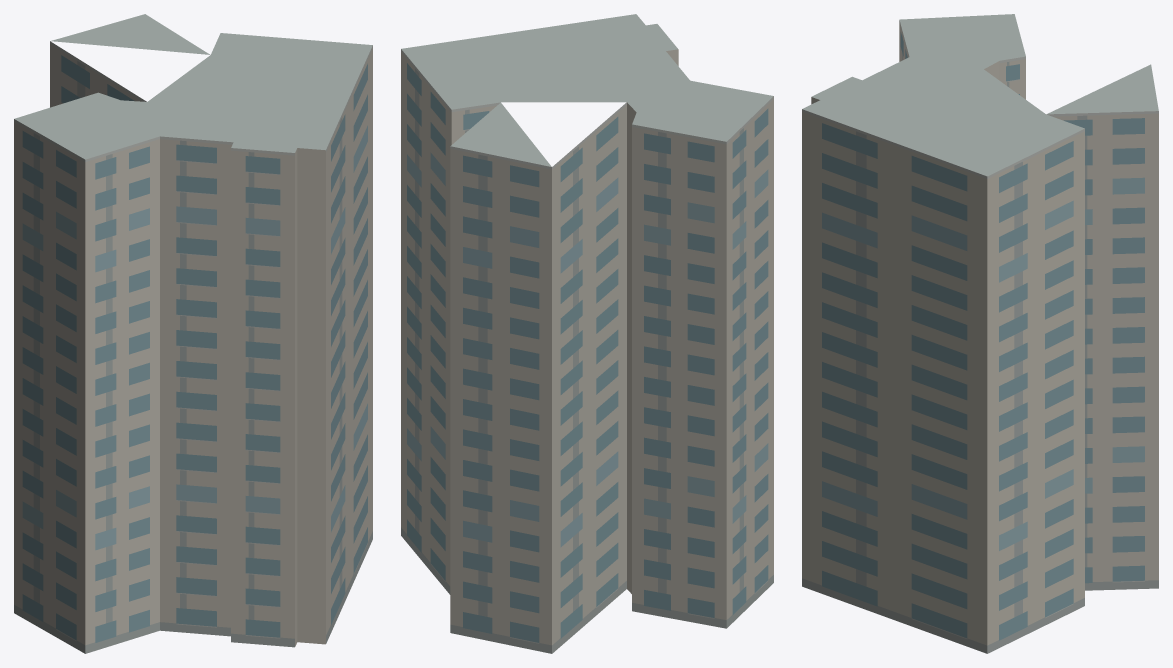
File: residential-c0ca156f-6932-4809-a89f-62110856afba.glb
The picture shows the model from 3 angles, left to right: view 1: azimuth 30°, elevation 25°; view 2: azimuth 150°, elevation 25°; view 3: azimuth 270°, elevation 25°; orthographic projection. The views are drawn at different scales.
Visible parts, largest first — view 1: residential-c0ca156f-6932-4809-a89f-62110856afba.tmp; view 2: residential-c0ca156f-6932-4809-a89f-62110856afba.tmp; view 3: residential-c0ca156f-6932-4809-a89f-62110856afba.tmp.
Part boxes in pixels (<box>): residential-c0ca156f-6932-4809-a89f-62110856afba.tmp: <box>14,14,372,653</box>; residential-c0ca156f-6932-4809-a89f-62110856afba.tmp: <box>401,14,773,653</box>; residential-c0ca156f-6932-4809-a89f-62110856afba.tmp: <box>802,14,1158,653</box>.
Size of the model in its own units: 33.59 by 46 by 31.17.
